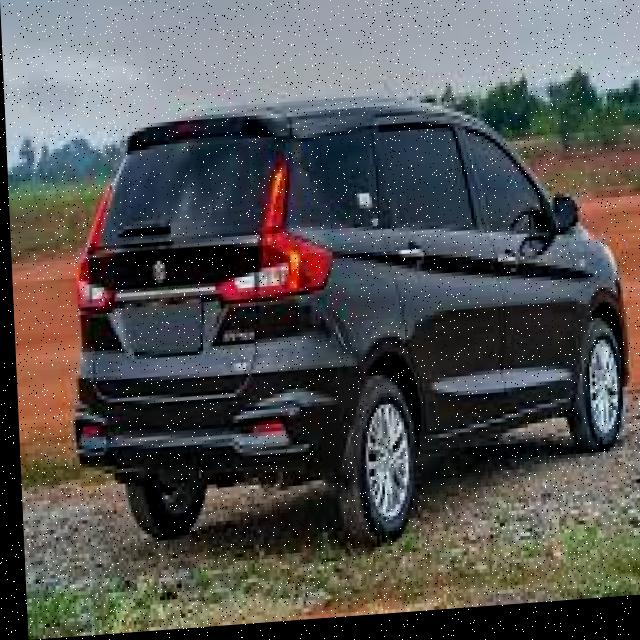car: (40, 42, 640, 575)
